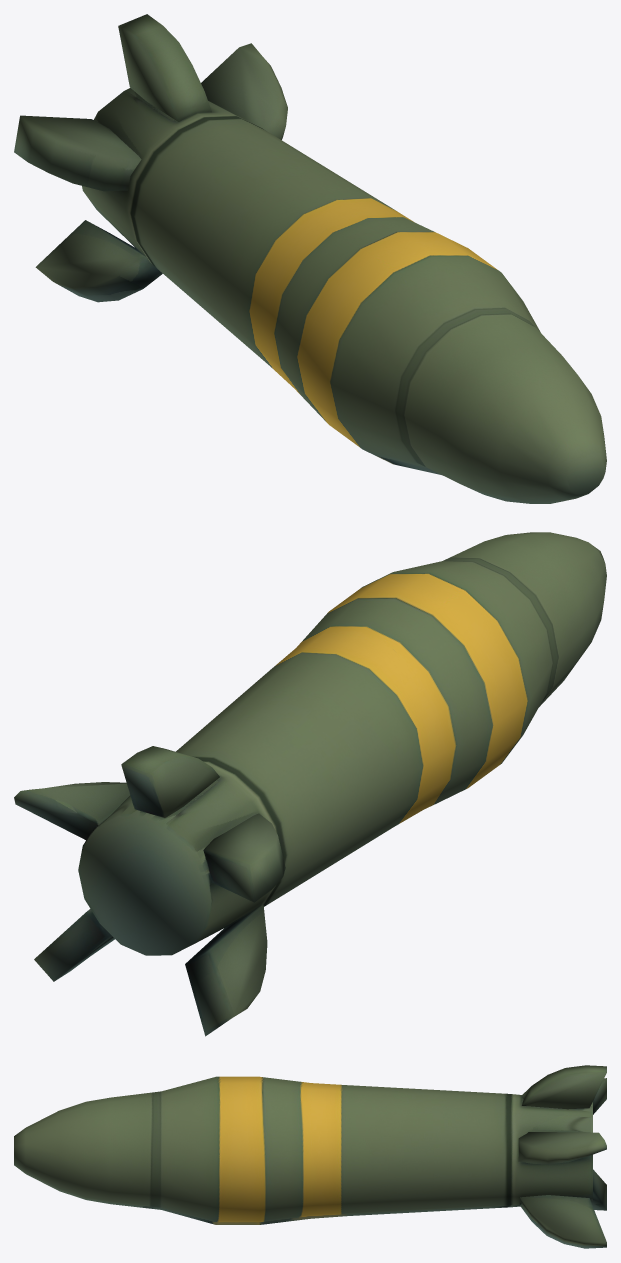
The model's file is Bullet1.glb.
The picture shows the model from 3 angles, top to bottom: view 1: azimuth 30°, elevation 25°; view 2: azimuth 150°, elevation 25°; view 3: azimuth 270°, elevation 25°; orthographic projection. The views are drawn at different scales.
Parts seen in each view (by area): view 1: world; view 2: world; view 3: world.
Part boxes in pixels (x1,y1,x2,y2): world: (14, 14, 606, 503); world: (14, 532, 606, 1036); world: (14, 1065, 606, 1248).
Bounding box in the file's own units: 0.3105 × 0.3066 × 0.998.
Materials: 1 (1 with a texture image).
